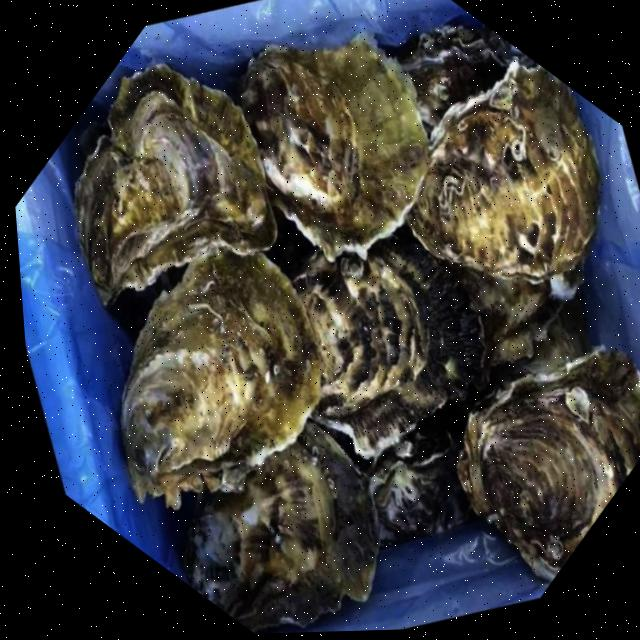Oyster-Closed: (388, 25, 537, 134), (368, 410, 469, 545)
Oyster-Indeterminate: (121, 252, 322, 510), (76, 65, 276, 304), (457, 348, 640, 582), (240, 37, 429, 260), (302, 231, 484, 460), (408, 64, 599, 281), (183, 424, 380, 633), (490, 277, 629, 414), (450, 261, 583, 366)
